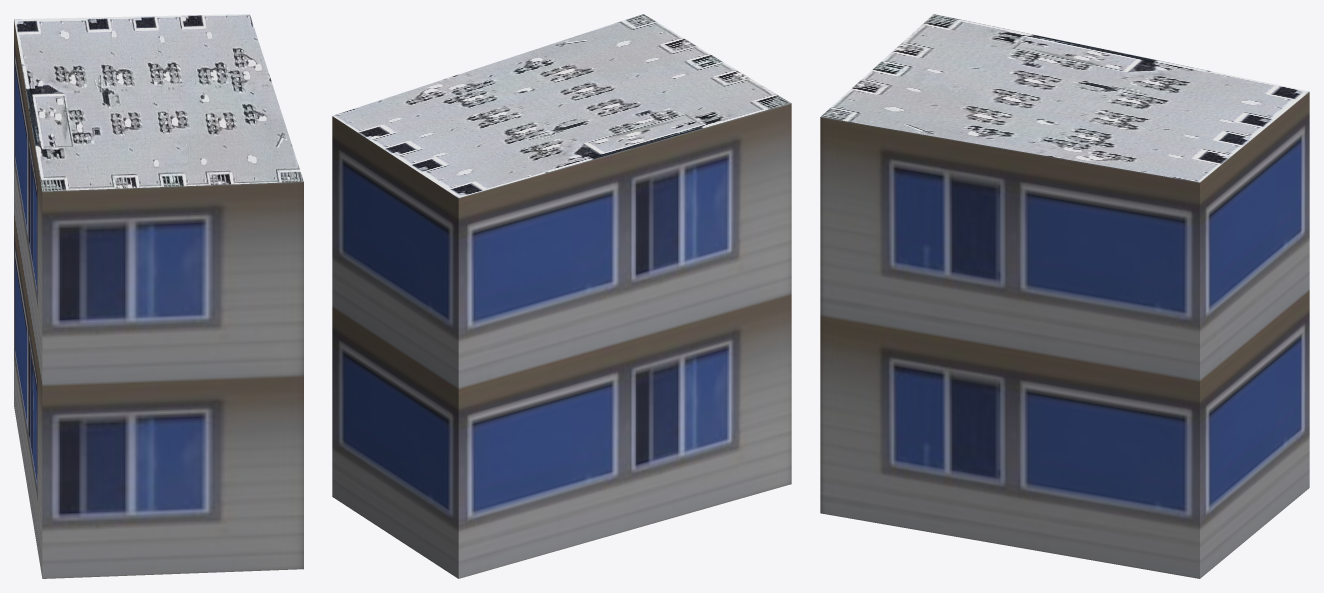
Rendered from ResTex__2624.fbx.
The picture shows the model from 3 angles, left to right: view 1: azimuth 30°, elevation 25°; view 2: azimuth 150°, elevation 25°; view 3: azimuth 270°, elevation 25°; orthographic projection. The views are drawn at different scales.
Visible parts, largest first — view 1: CityEngineMaterial_23_m, CityEngineMaterial_4_m; view 2: CityEngineMaterial_23_m, CityEngineMaterial_4_m; view 3: CityEngineMaterial_23_m, CityEngineMaterial_4_m.
Boxes of the visible parts, left/top/right/bottom form: CityEngineMaterial_23_m: left=14, top=19, right=303, bottom=578; CityEngineMaterial_4_m: left=14, top=14, right=303, bottom=191; CityEngineMaterial_23_m: left=332, top=103, right=791, bottom=578; CityEngineMaterial_4_m: left=332, top=14, right=791, bottom=197; CityEngineMaterial_23_m: left=820, top=92, right=1309, bottom=578; CityEngineMaterial_4_m: left=821, top=14, right=1308, bottom=182.
Size of the model in its own units: 5.47 by 6 by 6.71.
Materials: 2 (2 with a texture image).
